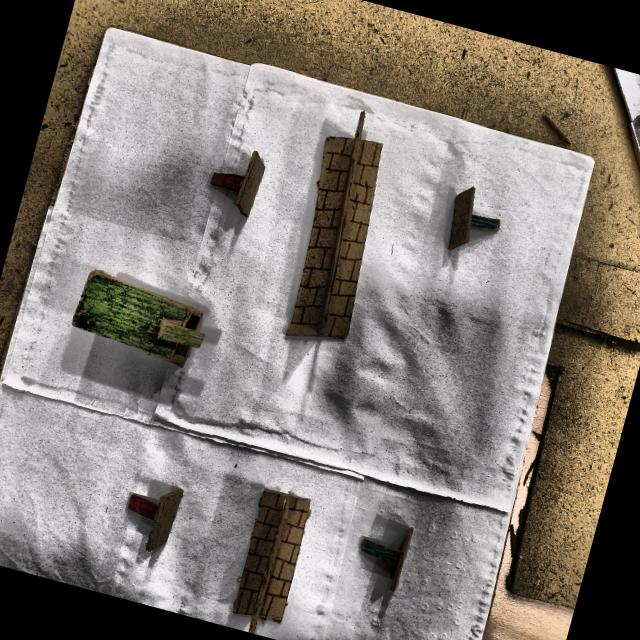Dead soldier -enemy-: (118, 476, 187, 566), (207, 143, 268, 225)
Dead soldier -frd-: (353, 520, 415, 616), (445, 187, 503, 253)
Tank: (69, 268, 208, 377)
Wall: (284, 114, 382, 343), (230, 489, 311, 633)
